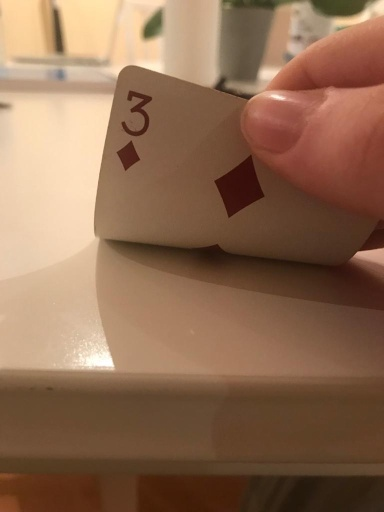D3: (114, 86, 154, 171)
